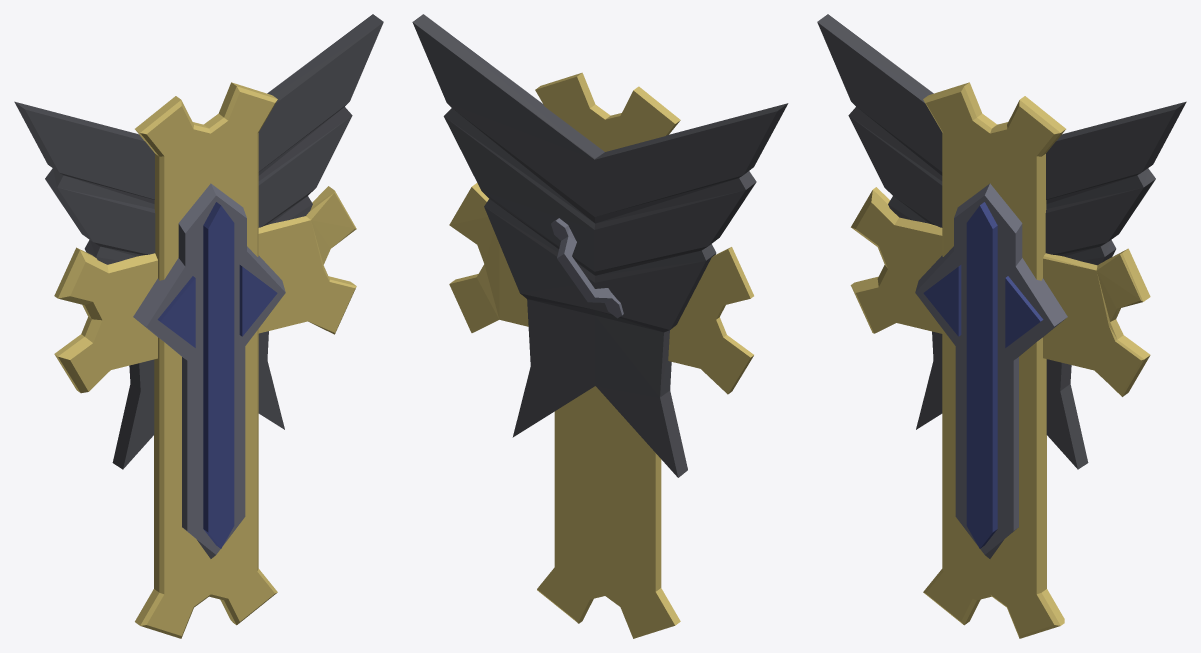
File: _Shield_14.fbx
3 views of the same model, side by side, from view 1: azimuth 30°, elevation 25°; view 2: azimuth 150°, elevation 25°; view 3: azimuth 330°, elevation 25° (orthographic).
Visible parts, largest first — view 1: Shield_14; view 2: Shield_14; view 3: Shield_14.
Part boxes in pixels (bbox=[...]): Shield_14: bbox=[14, 14, 383, 638]; Shield_14: bbox=[412, 14, 788, 638]; Shield_14: bbox=[817, 14, 1186, 638].
Bounding box in the file's own units: 69.84 × 105 × 13.94.
